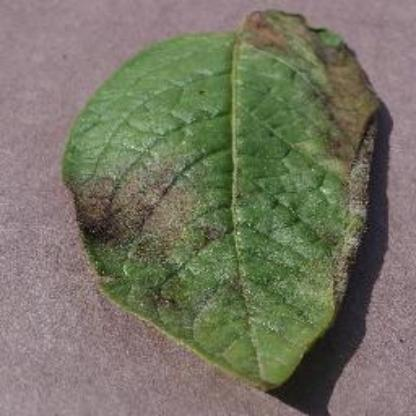Late-Blight: (59, 8, 402, 392)
